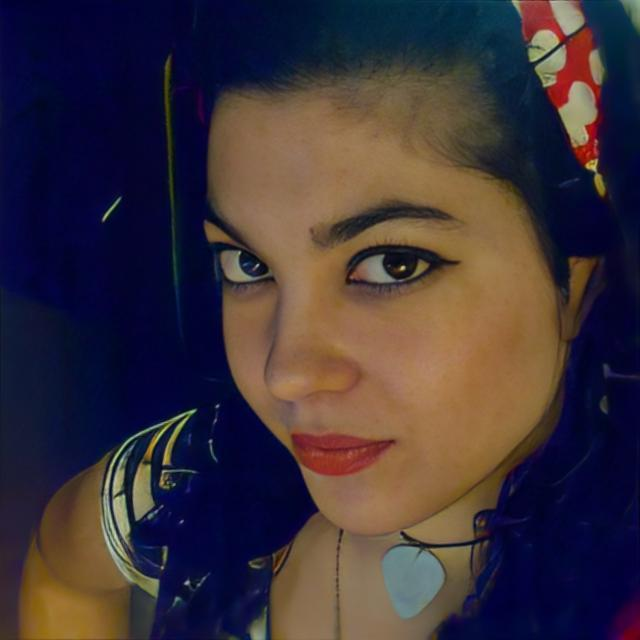neutral: (200, 52, 560, 540)
